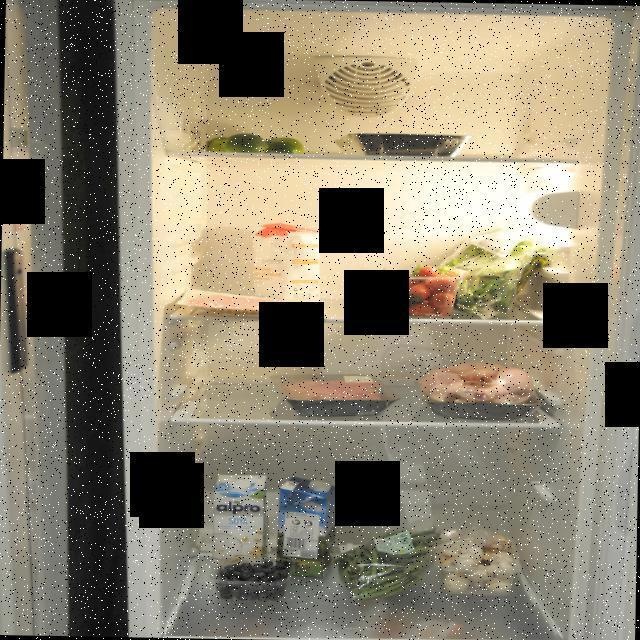blueberries: (213, 556, 288, 600)
chicken: (416, 356, 546, 420)
green_beans: (332, 520, 448, 602)
ground_beef: (278, 371, 388, 408)
ham: (186, 290, 314, 316)
lime: (203, 132, 303, 156)
milk: (276, 474, 339, 584), (210, 470, 272, 570)
mushrooms: (428, 517, 518, 594)
spinach: (433, 227, 554, 320)
strawberries: (367, 258, 462, 320)
sugar: (250, 221, 324, 311)
